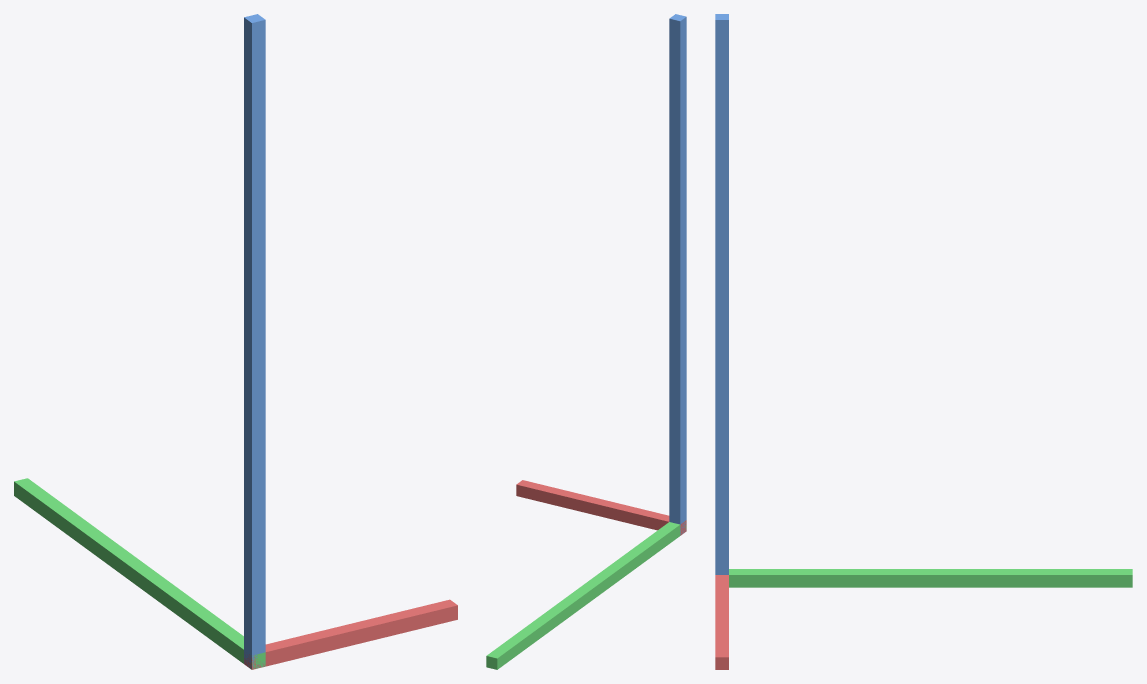
Rendered from axis_fixture.glb.
The picture shows the model from 3 angles, left to right: view 1: azimuth 30°, elevation 25°; view 2: azimuth 150°, elevation 25°; view 3: azimuth 270°, elevation 25°; orthographic projection. The views are drawn at different scales.
Parts seen in each view (by area): view 1: axis_fixture; view 2: axis_fixture; view 3: axis_fixture.
Boxes of the visible parts, x1=… form: axis_fixture: x1=14, y1=14, x2=457, y2=669; axis_fixture: x1=486, y1=14, x2=686, y2=669; axis_fixture: x1=715, y1=14, x2=1132, y2=669.
Bounding box in the file's own units: 0.03 × 0.09 × 0.06.
